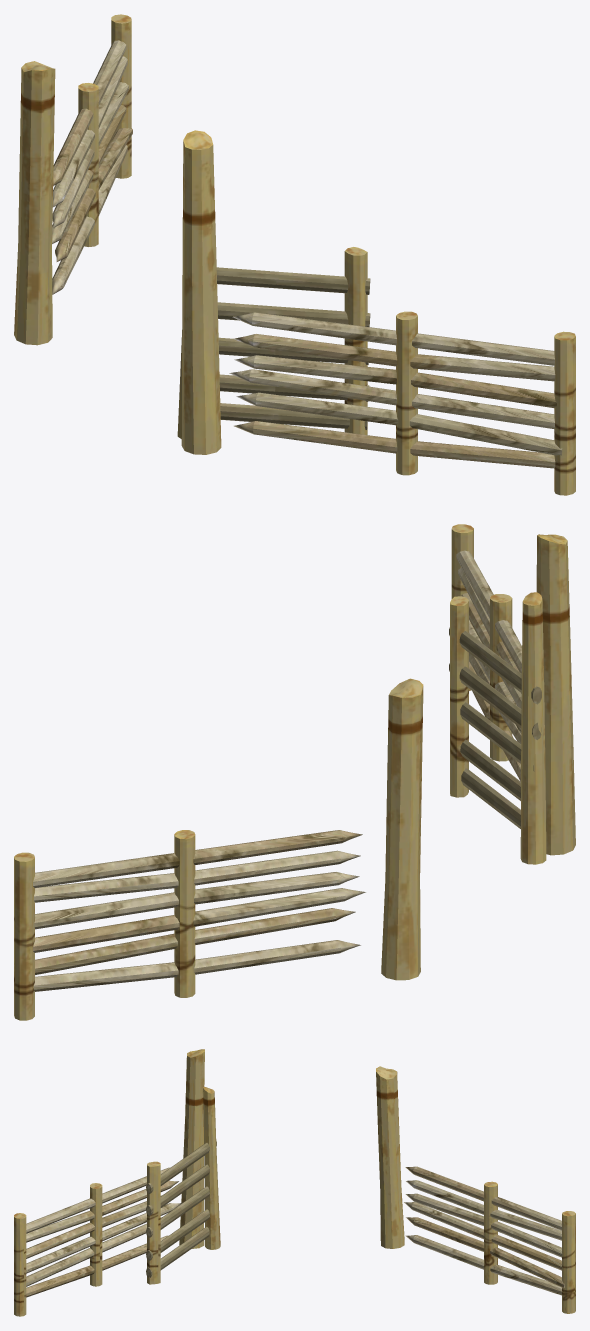
File: Wooden Gate.fbx
3 renders of one model, top to bottom at view 1: azimuth 30°, elevation 25°; view 2: azimuth 150°, elevation 25°; view 3: azimuth 270°, elevation 25°, orthographic. The views are drawn at different scales.
Visible parts, largest first — view 1: polySurface5; view 2: polySurface5; view 3: polySurface5.
Boxes of the visible parts, box(x1,y1,x2,y2) form: polySurface5: box(14, 14, 575, 495); polySurface5: box(14, 524, 575, 1020); polySurface5: box(14, 1049, 575, 1316).
Size of the model in its own units: 6.11 by 6.97 by 18.02.
